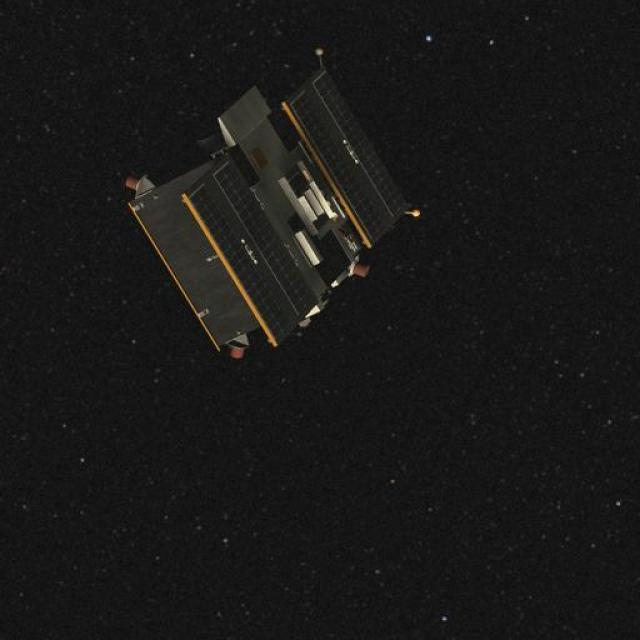proba_2: (96, 38, 431, 375)
